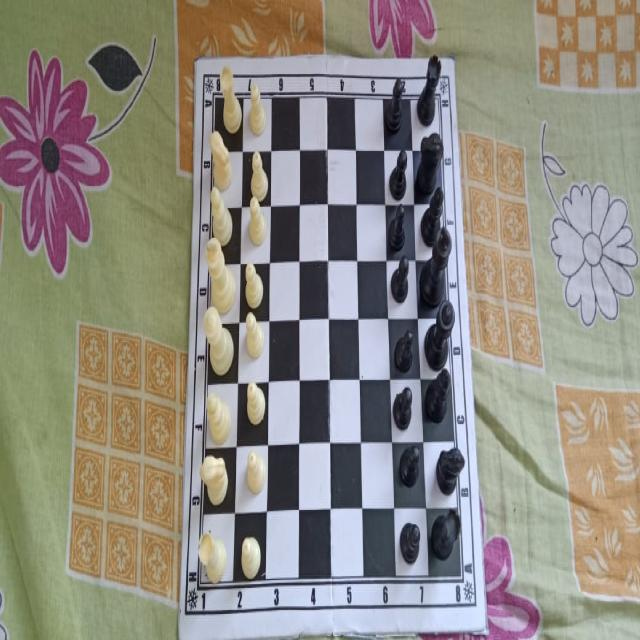corners: (191, 49, 204, 74), (447, 52, 457, 69), (481, 619, 491, 636), (175, 632, 184, 640)
